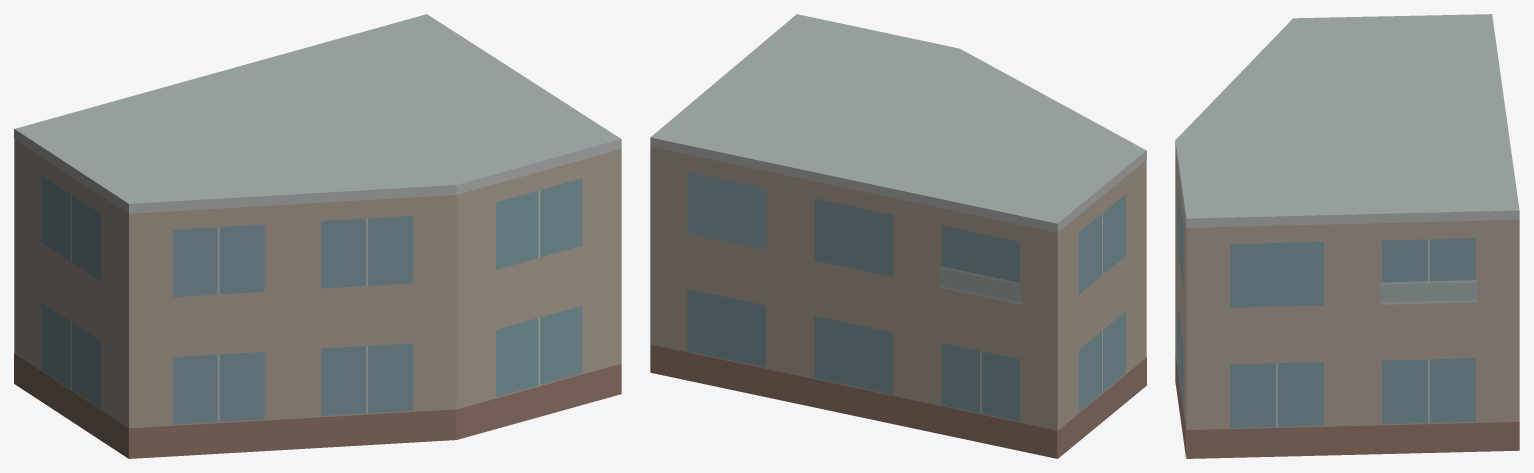
The model's file is survey-upis-32711599.glb.
3 renders of one model, left to right at view 1: azimuth 30°, elevation 25°; view 2: azimuth 150°, elevation 25°; view 3: azimuth 270°, elevation 25°, orthographic. The views are drawn at different scales.
Visible parts, largest first — view 1: survey-upis-32711599.tmp; view 2: survey-upis-32711599.tmp; view 3: survey-upis-32711599.tmp.
Part boxes in pixels (bbox=[...]): survey-upis-32711599.tmp: bbox=[14, 14, 621, 458]; survey-upis-32711599.tmp: bbox=[650, 14, 1146, 458]; survey-upis-32711599.tmp: bbox=[1175, 14, 1519, 458].
Size of the model in its own units: 11.52 by 6.3 by 8.19.
